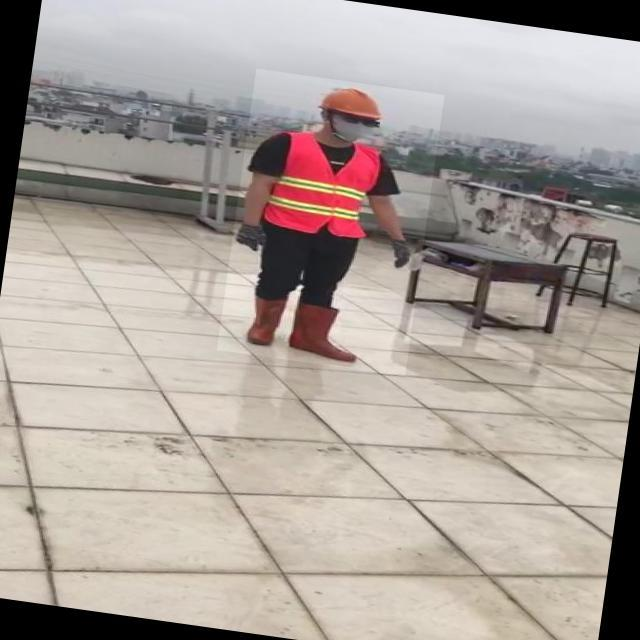Gloves: (232, 222, 275, 253), (388, 239, 416, 273)
Helmet: (315, 83, 390, 123)
Human: (217, 69, 445, 377)
Safety Boot: (286, 299, 363, 364), (241, 292, 286, 350)
Safety Vest: (264, 127, 387, 241)
